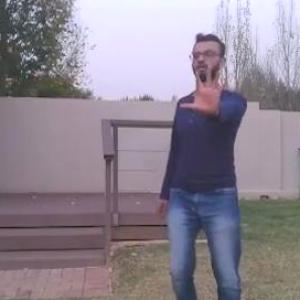follow_hand: (180, 63, 232, 116)
